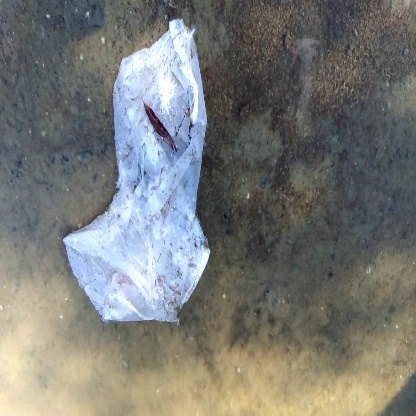plastic-bag: (63, 22, 212, 326)
